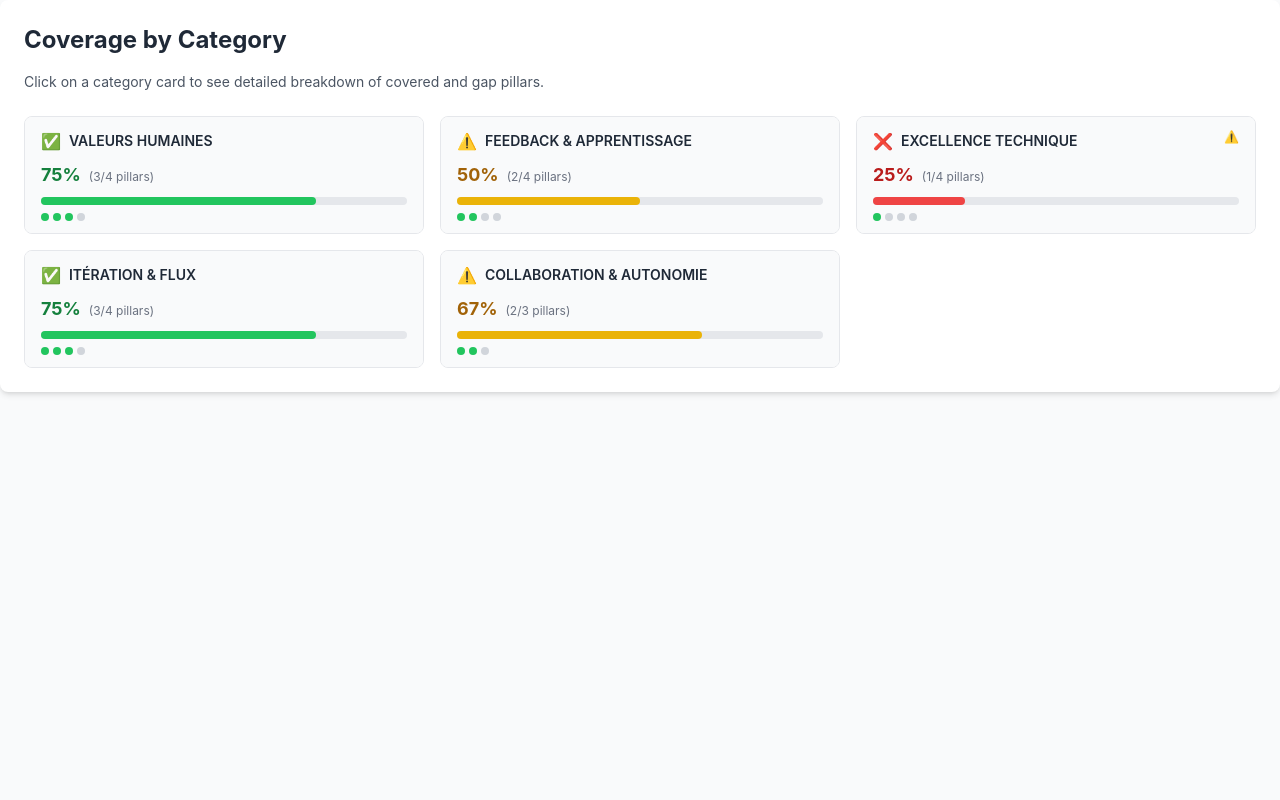
it: CategoryCoverageBreakdown › only shows View Available Practices button for categories with <50% coverage
Note: Expand Values (75% coverage) - should NOT have View Practices button
Step 1. Click the button "✅ VALEURS HUMAINES 75%(3/4 pillars)" → (141, 140), box [25,117,423,233]
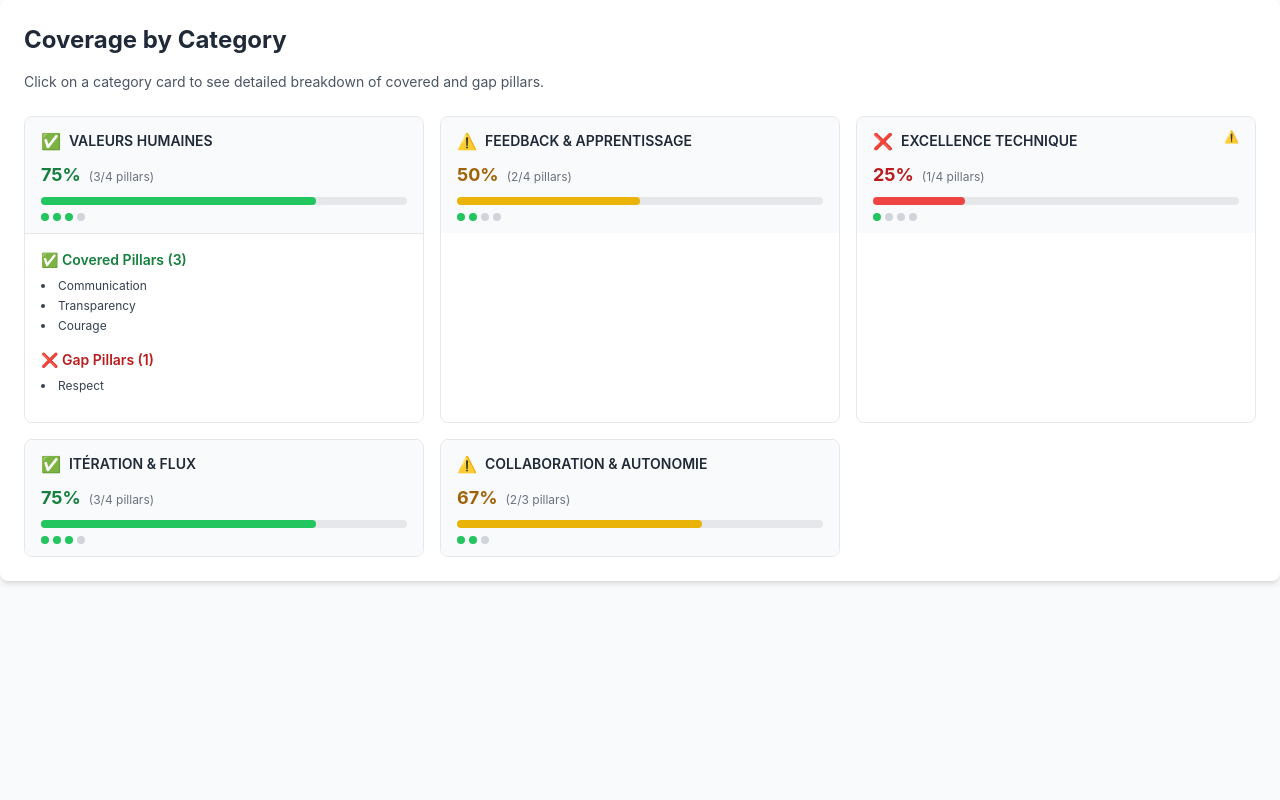
expect the text "View Available Practices" is not shown: met
Step 2. Click the button "✅ VALEURS HUMAINES 75%(3/4 pillars)" → (141, 140), box [25,117,423,233]
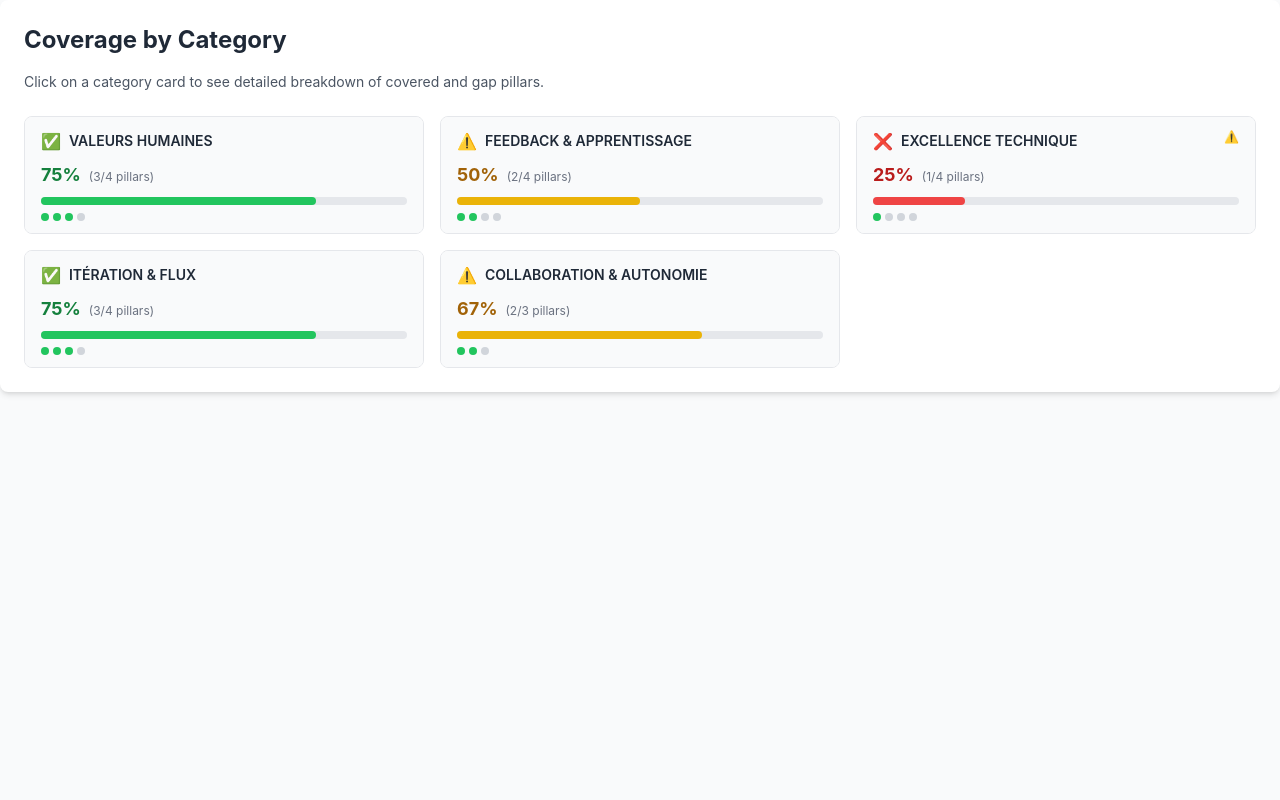
Step 3. Click the button "❌ EXCELLENCE TECHNIQUE ⚠️ 25%(1/4 pillars)" → (989, 140), box [857,117,1255,233]
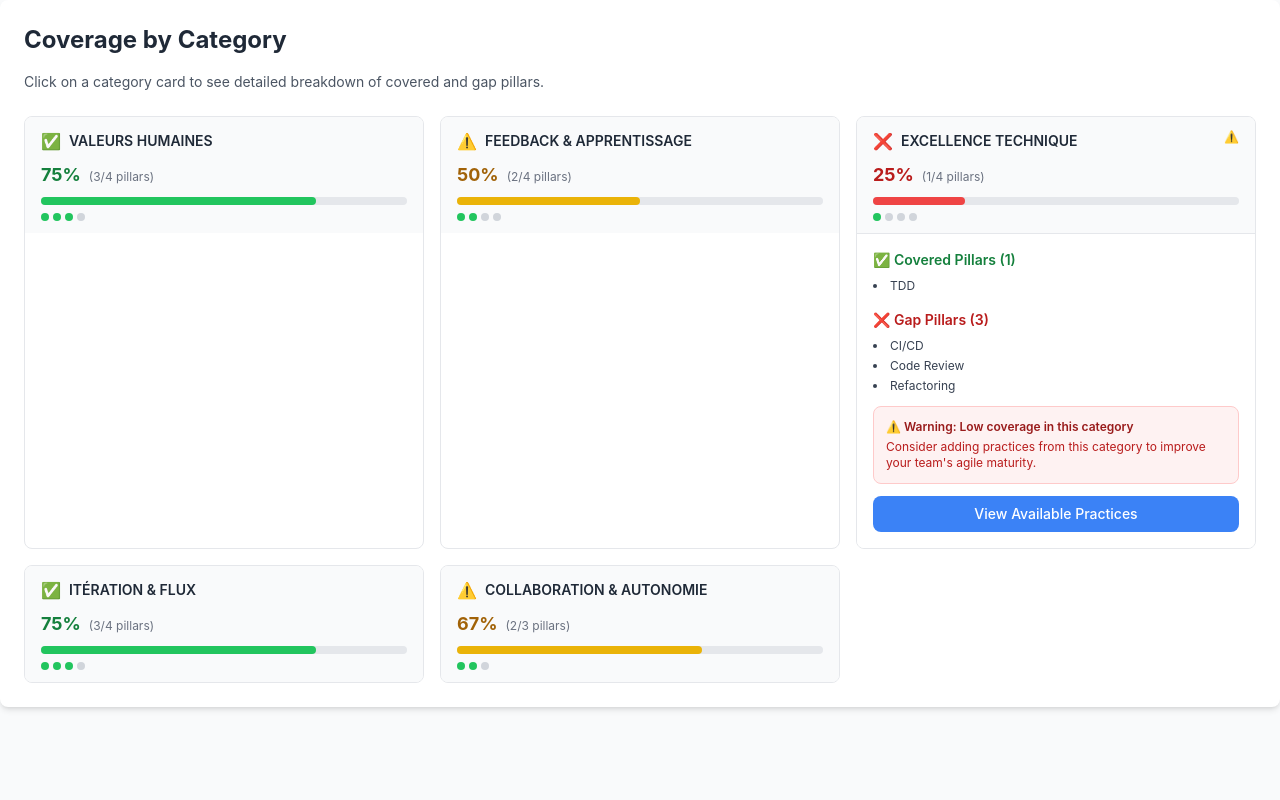
expect the button with aria-label "View available practices in EXCELLENCE TECHNIQUE" is shown: met, box [873,496,1239,532]
